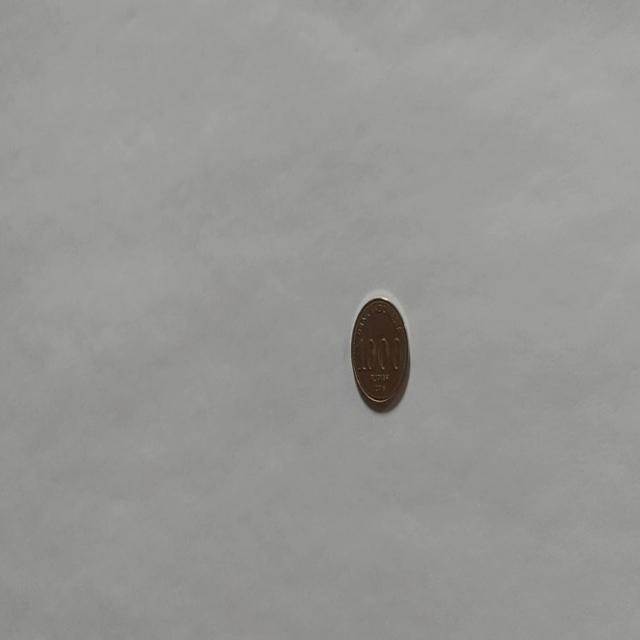seribu rupiah koin: (348, 294, 409, 412)
